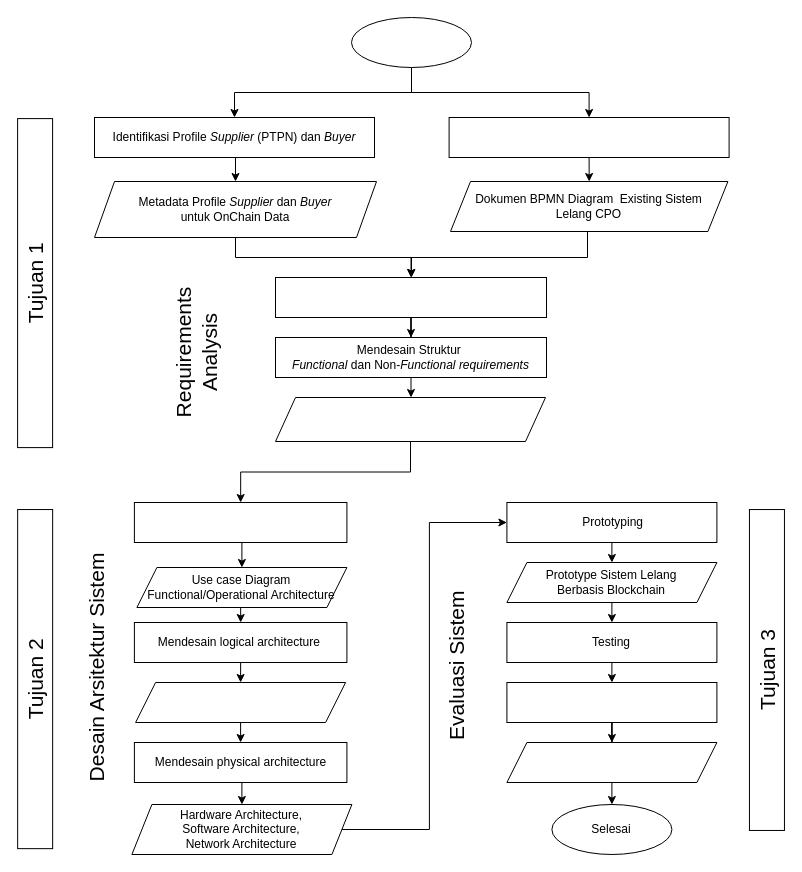
Some shapes in this 802 by 872 pixel diagram are drawn without their labels. The shapes that lost their labels are listed below. From the top down, each one's centre as x and y in pixels, then its label:
the point at 411,42: Mulai
the point at 588,137: Identifikasi SOP, Peraturan Perundangan terkait Proses Lelang CPO
the point at 410,297: Menentukan Functional dan Non- Functional requirements
the point at 410,419: Dokumen Requirements
the point at 240,522: Mendesain Functional/Operational Architecture
the point at 240,702: BPMN Sistem Lelang Berbasis Blockchain
the point at 611,702: Verifikasi dan Validasi Model
the point at 611,762: Dokumen hasil evaluasi sistem
